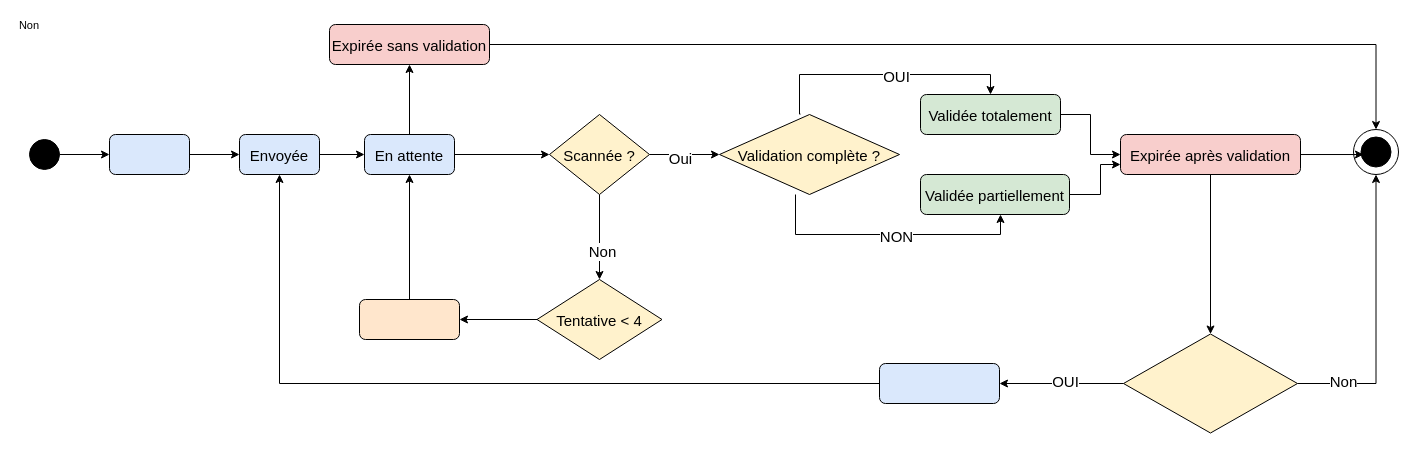
This 1416x451 diagram has some shape labels left out. The shapes that lost their labels are listed below. From the top down, each one's centre as x and y in pixels, then its label:
At pixel 149 154: "Créée".
At pixel 409 319: "Rappel".
At pixel 939 383: "Renouvelée".
At pixel 1210 383: "Besoin de renouvellement ?".
